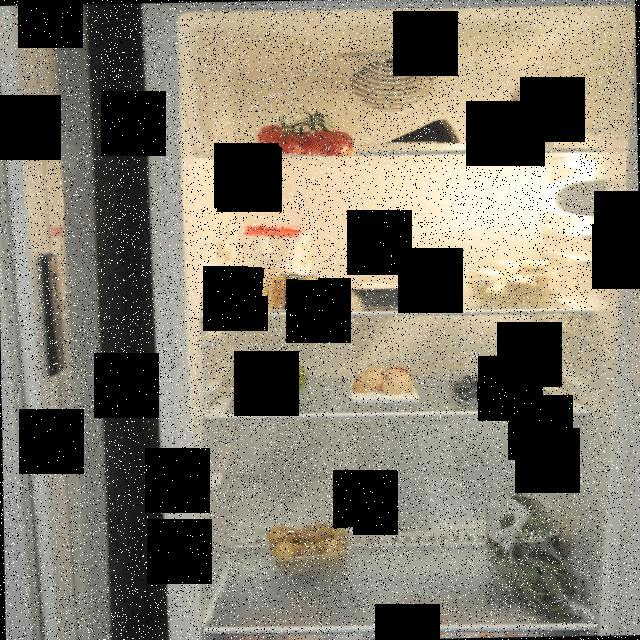apple: (250, 360, 312, 400)
blueberries: (446, 370, 536, 404)
cheese: (371, 114, 468, 146)
corn: (269, 270, 318, 310)
eggs: (352, 366, 418, 398)
flour: (497, 81, 554, 151)
mushrooms: (466, 260, 558, 306)
potato: (263, 522, 353, 579)
spinach: (486, 484, 590, 618)
sugar: (244, 220, 310, 296)
tomato: (256, 116, 356, 156)
